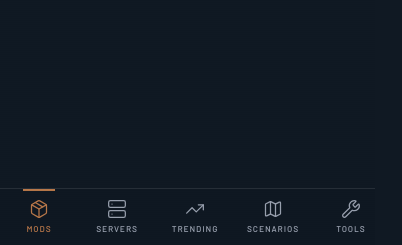
BottomNav › expands and closes the tools sheet
This screenshot has width=402, height=245.
Check: the link "Config Audit" is not shown
Click the button "Tools": (351, 217) [312,189,390,244]
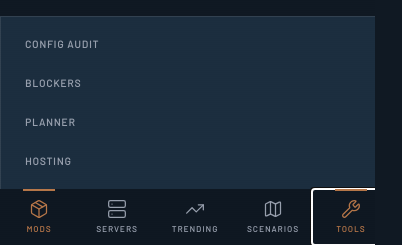
Click the button "Tools": (351, 217) [312,189,390,244]
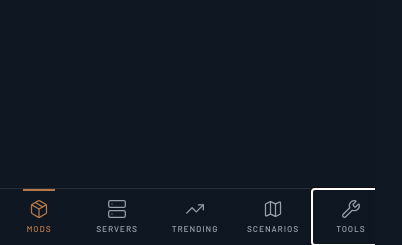
Check: the link "Config Audit" is gone
